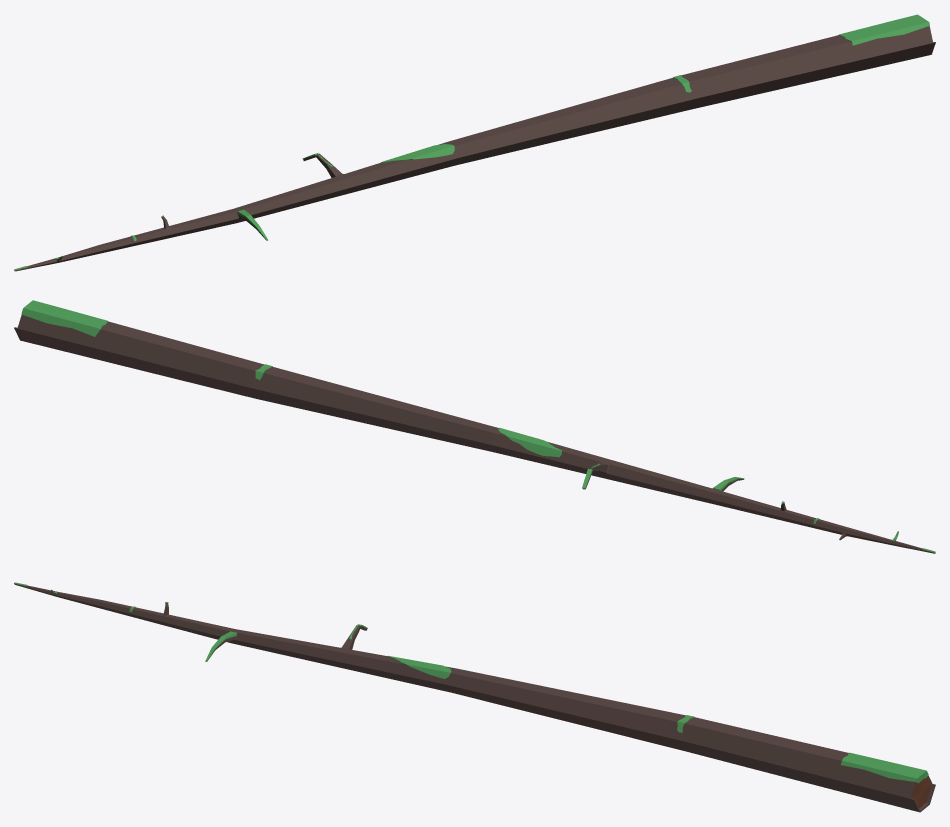
Rendered from Fallen_Tree_1-long-v2.fbx.
3 renders of one model, top to bottom at view 1: azimuth 30°, elevation 25°; view 2: azimuth 150°, elevation 25°; view 3: azimuth 330°, elevation 25°, orthographic.
Parts seen in each view (by area): view 1: Tree, Tree.002; view 2: Tree, Tree.002; view 3: Tree, Tree.002.
Part boxes in pixels (box(x1,y1,x2,y2)): Tree: box(14, 26, 935, 271); Tree.002: box(14, 14, 929, 270); Tree: box(14, 314, 935, 553); Tree.002: box(21, 300, 935, 552); Tree: box(14, 583, 935, 812); Tree.002: box(14, 582, 928, 783).
Bounding box in the file's own units: 2010 × 70.16 × 240.
